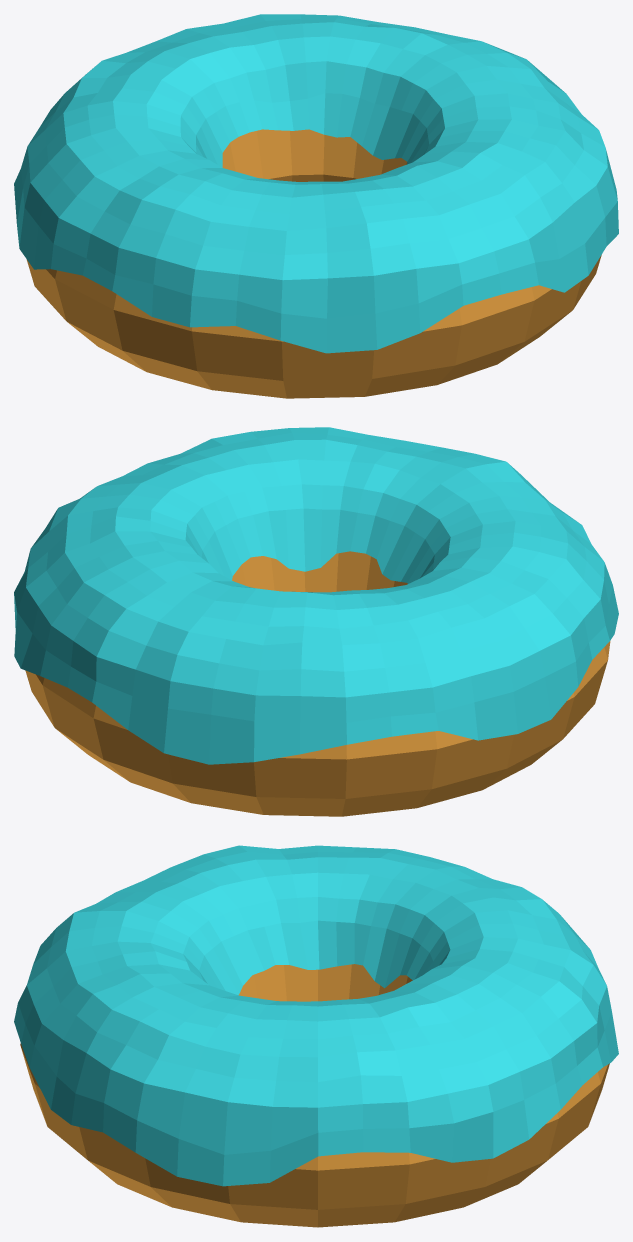
Rendered from Texturizado_Donut_001.glb.
3 renders of one model, top to bottom at view 1: azimuth 30°, elevation 25°; view 2: azimuth 150°, elevation 25°; view 3: azimuth 270°, elevation 25°, orthographic.
Visible parts, largest first — view 1: Mesh_Glaseado_001, Mesh_donut_001; view 2: Mesh_Glaseado_001, Mesh_donut_001; view 3: Mesh_Glaseado_001, Mesh_donut_001.
Part boxes in pixels (box(x1,y1,x2,y2)): Mesh_Glaseado_001: box(14, 14, 618, 353); Mesh_donut_001: box(26, 129, 601, 398); Mesh_Glaseado_001: box(14, 427, 618, 764); Mesh_donut_001: box(25, 551, 610, 816); Mesh_Glaseado_001: box(14, 845, 618, 1186); Mesh_donut_001: box(20, 964, 609, 1227).
Bounding box in the file's own units: 4.71 × 1.73 × 4.7.
